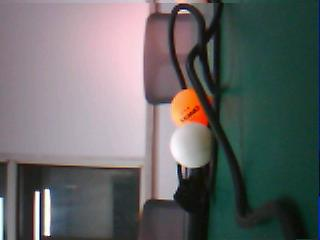oball: (172, 88, 211, 125)
